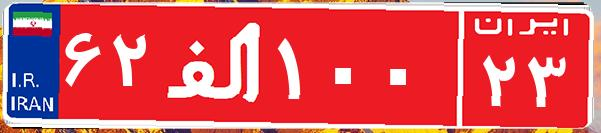0: (385, 28, 445, 110), (330, 28, 385, 110)
1: (273, 28, 330, 110)
2: (475, 38, 525, 113), (110, 28, 158, 105)
3: (525, 38, 570, 115)
6: (57, 26, 110, 107)
الف: (158, 15, 273, 115)
